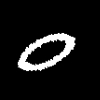chain: (18, 33, 74, 70)
